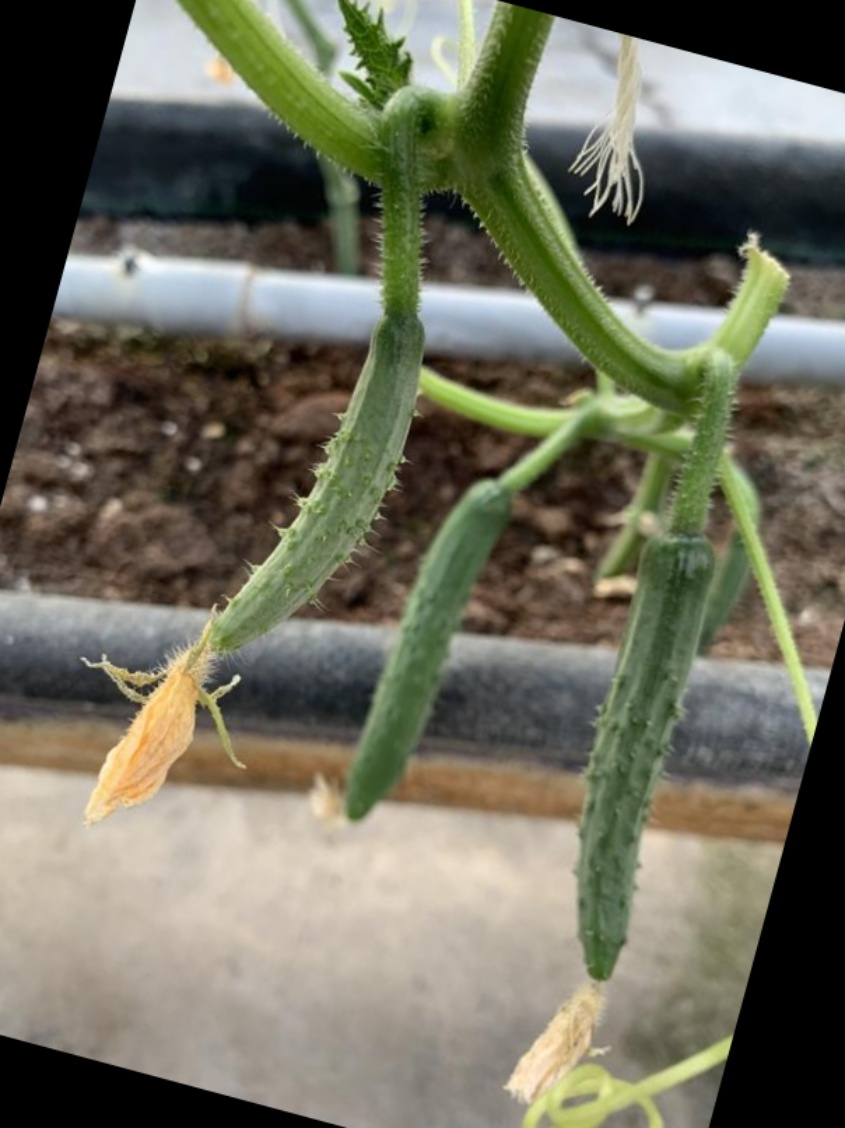growth: (559, 510, 721, 1020)
